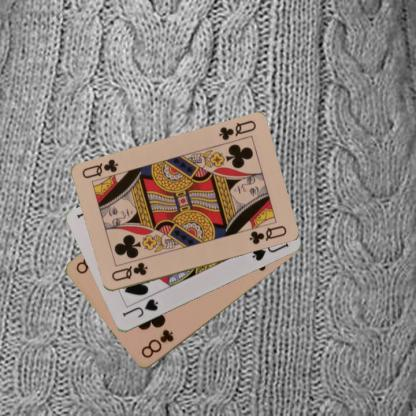8c: (138, 327, 176, 360)
Js: (119, 296, 160, 319)
Qc: (216, 118, 257, 142), (108, 260, 148, 283)
